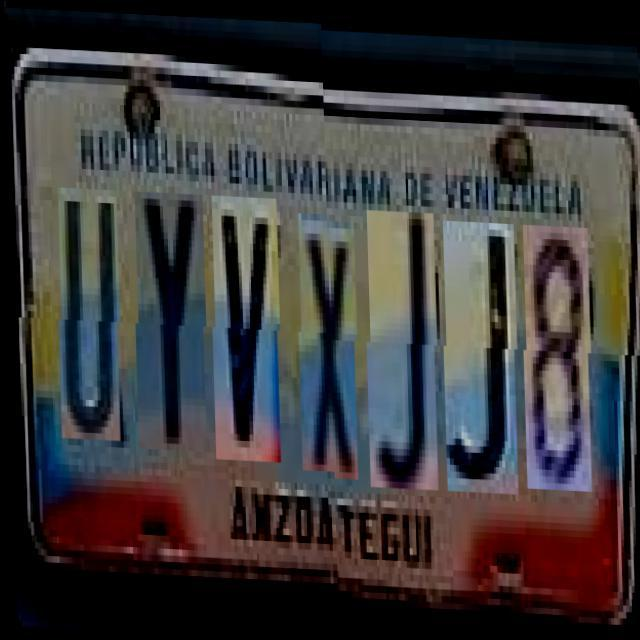8: (521, 212, 592, 480)
J: (364, 200, 438, 480), (442, 210, 518, 482)
U: (56, 187, 120, 440)
V: (210, 192, 282, 460)
X: (297, 210, 358, 470)
Y: (134, 190, 207, 450)
